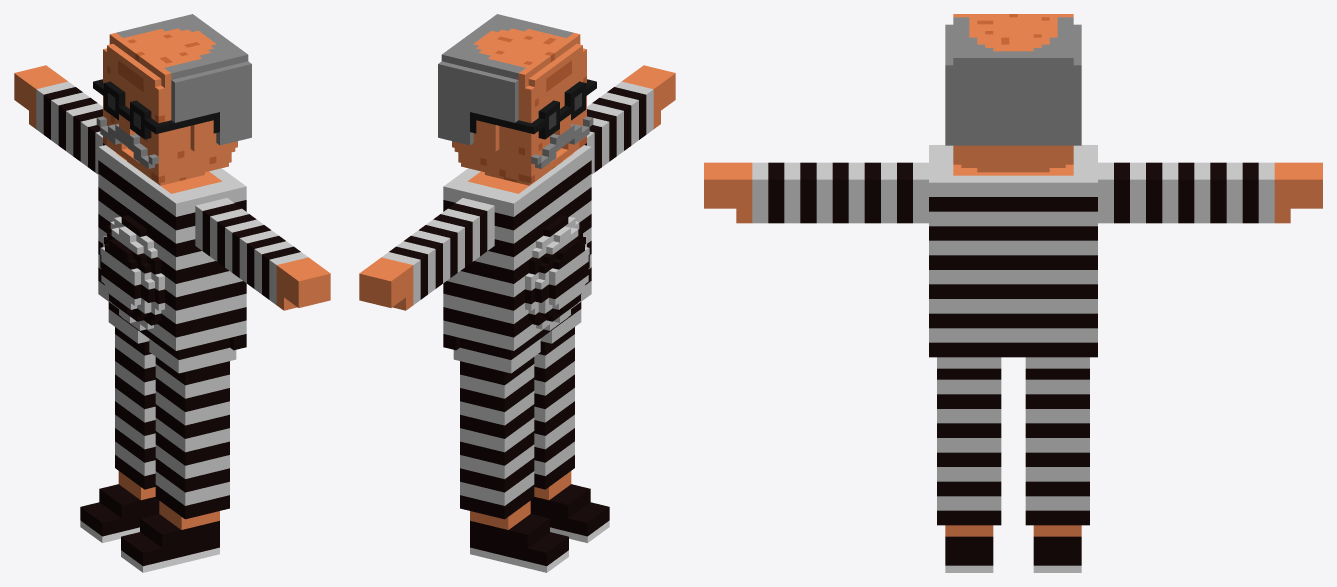
The model's file is prisoner_old.obj.
The picture shows the model from 3 angles, left to right: view 1: azimuth 30°, elevation 25°; view 2: azimuth 150°, elevation 25°; view 3: azimuth 270°, elevation 25°; orthographic projection. The views are drawn at different scales.
Size of the model in its own units: 1.7 by 7.3 by 7.7.
Materials: 1 (1 with a texture image).
